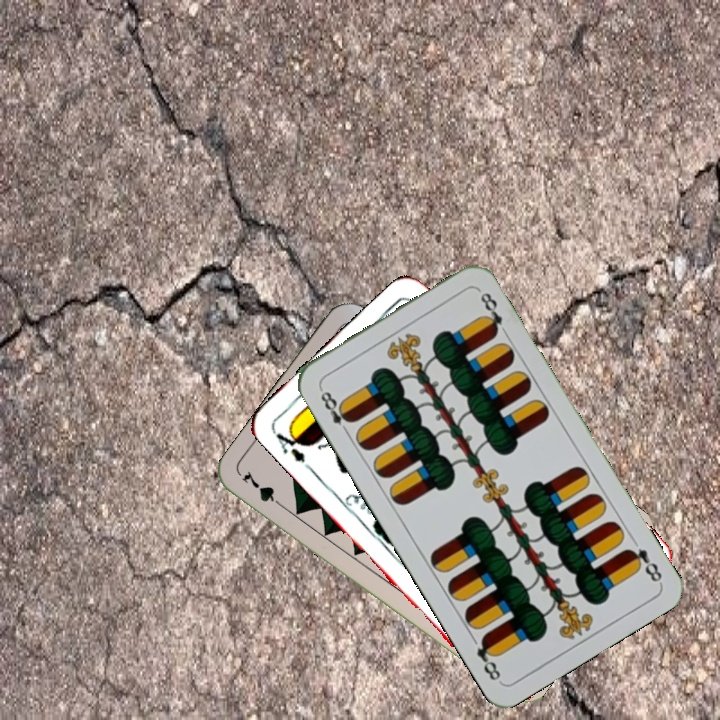E8: (315, 383, 356, 437), (622, 544, 665, 585)
EA: (269, 423, 315, 473)
G7: (237, 467, 289, 513)
